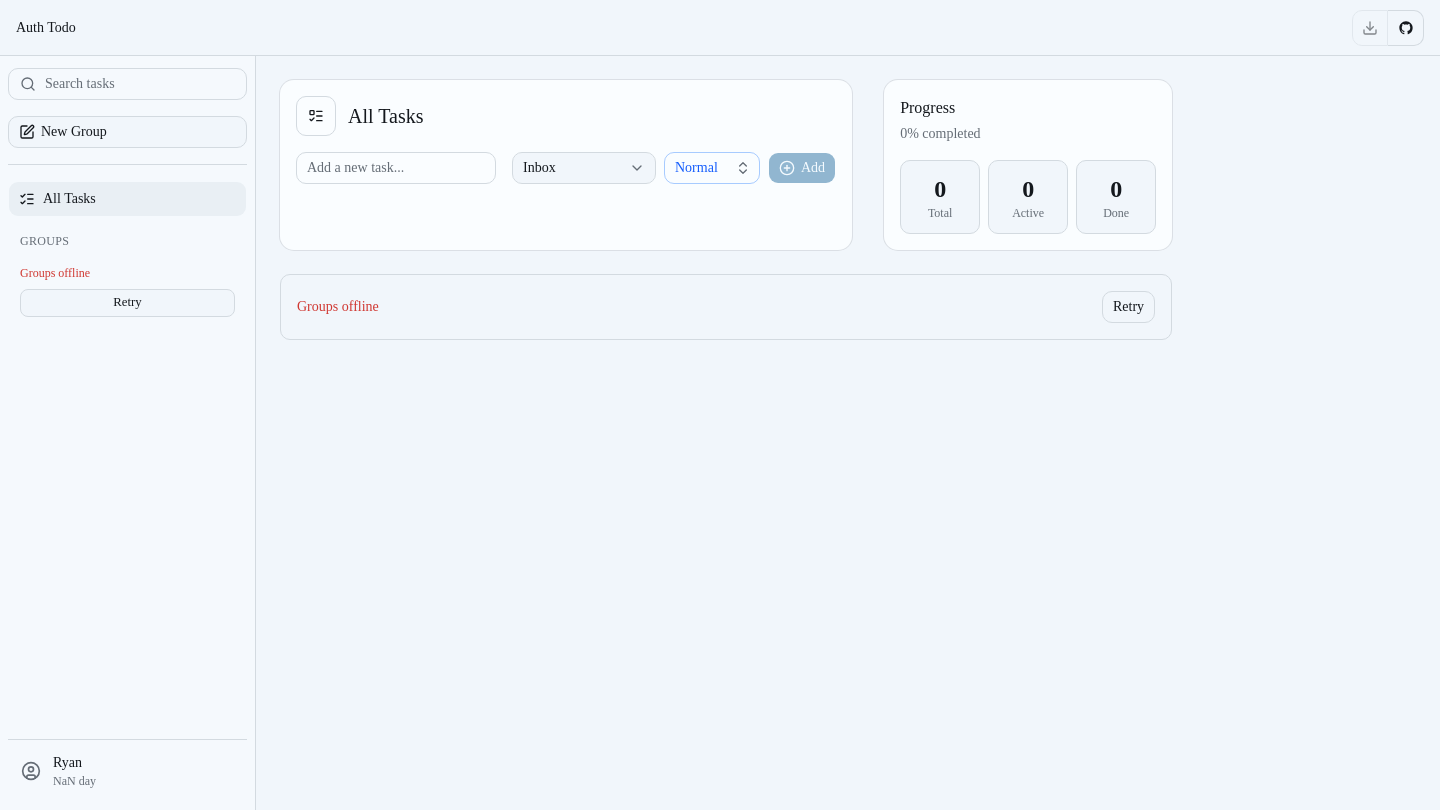
Scenario: MainLayout connections › shows sidebar request errors and reloads both groups and tasks through Retry
The width and height of the screenshot is (1440, 810).
Check: the 1st text "Groups offline" is shown, box [20,266,90,280]
Click the 1st button "Retry". click: (128, 303)
box: [20,289,235,317]
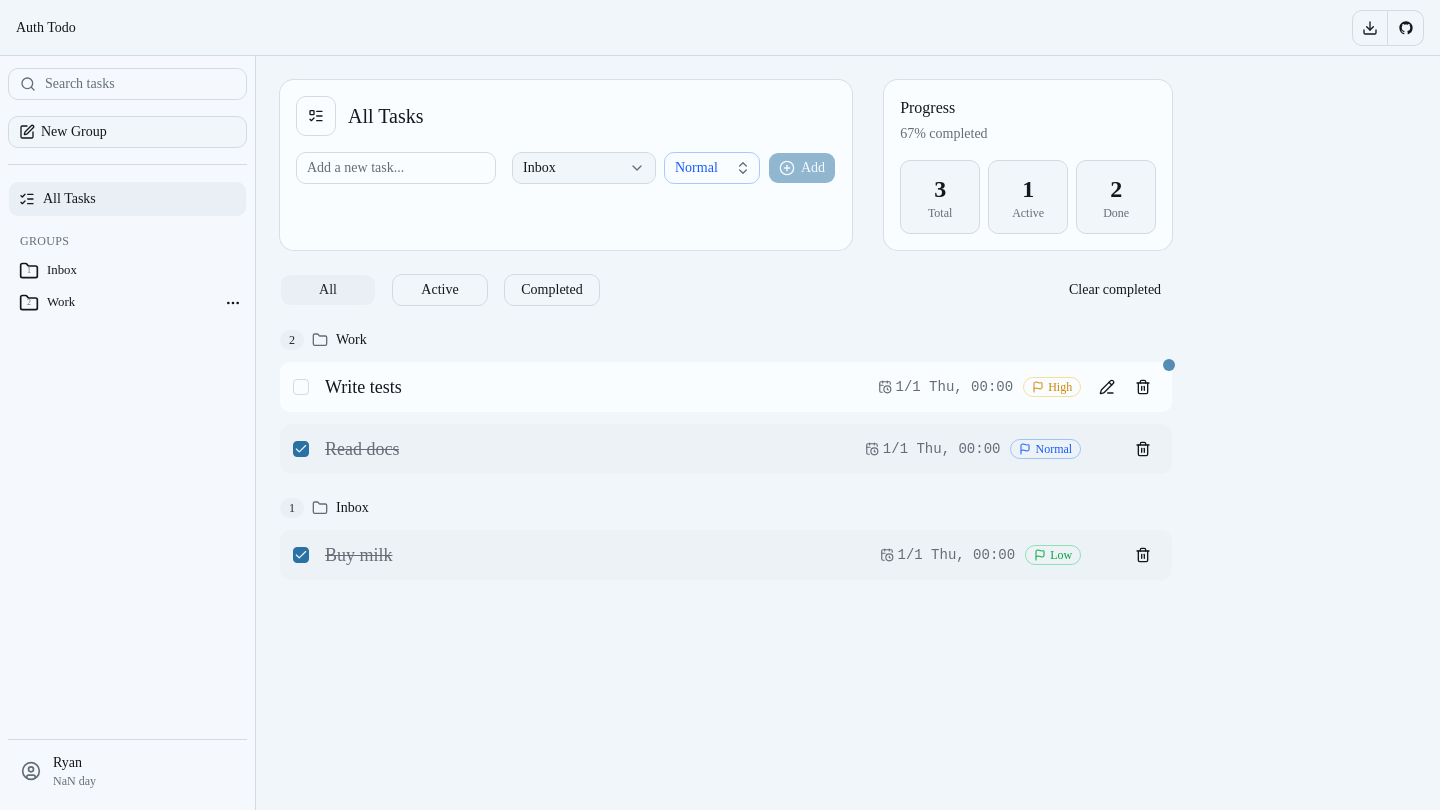
Check: the link "2 Work" is shown, box [19,293,75,313]
Check: the text "Groups offline" is gone
Check: the text "Write tests" is shown, box [325,373,402,401]
